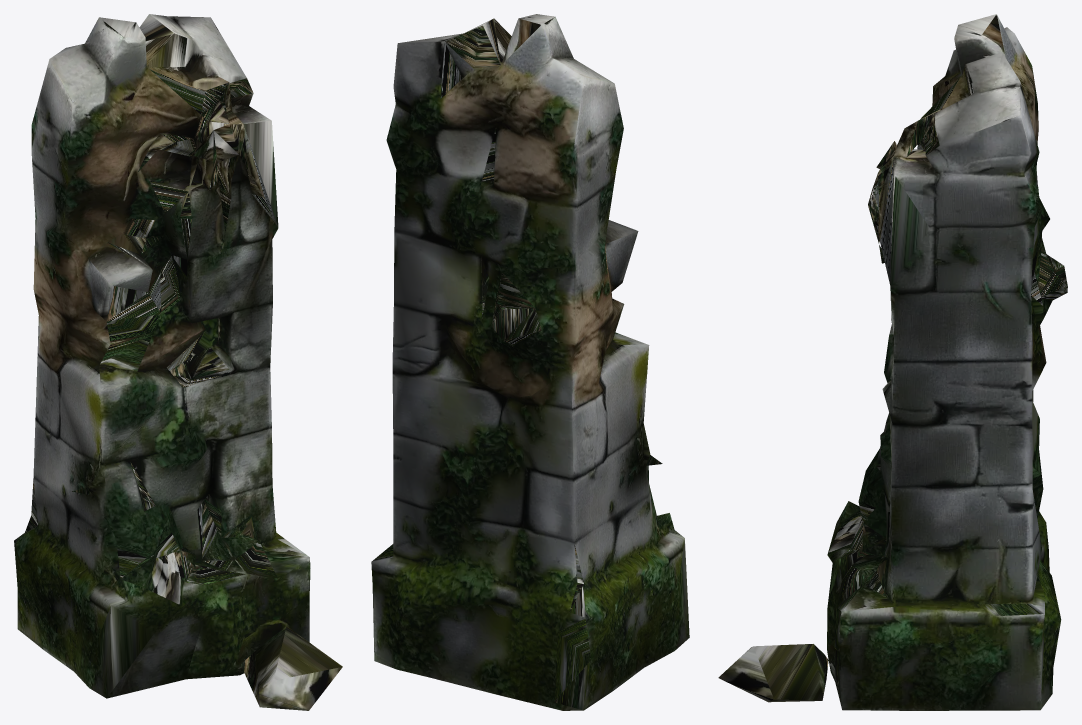
File: Cementery_Pillar_Vari.glb
3 views of the same model, side by side, from view 1: azimuth 30°, elevation 25°; view 2: azimuth 150°, elevation 25°; view 3: azimuth 270°, elevation 25° (orthographic). The views are drawn at different scales.
Parts seen in each view (by area): view 1: Cementery_Pillar_Vari; view 2: Cementery_Pillar_Vari; view 3: Cementery_Pillar_Vari.
Boxes of the visible parts, x1,y1,x2,y2 form: Cementery_Pillar_Vari: (14,14,342,710); Cementery_Pillar_Vari: (371,14,689,710); Cementery_Pillar_Vari: (718,14,1067,710).
Bounding box in the file's own units: 0.7063 × 1.93 × 0.9756.
Materials: 1 (1 with a texture image).
